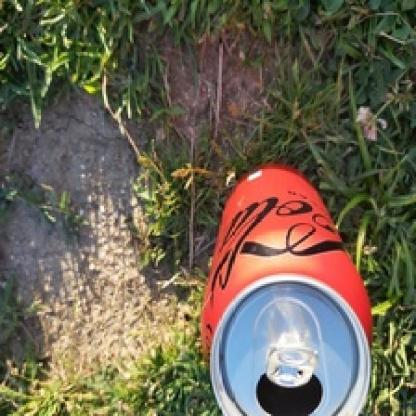Can: (200, 164, 373, 416)
